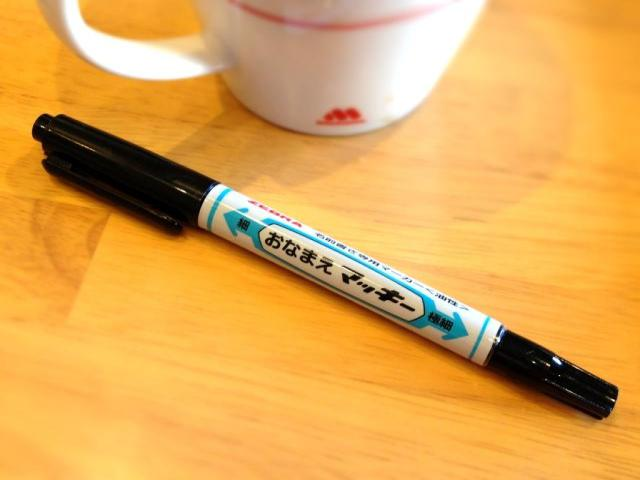PEN: (12, 80, 630, 445)
